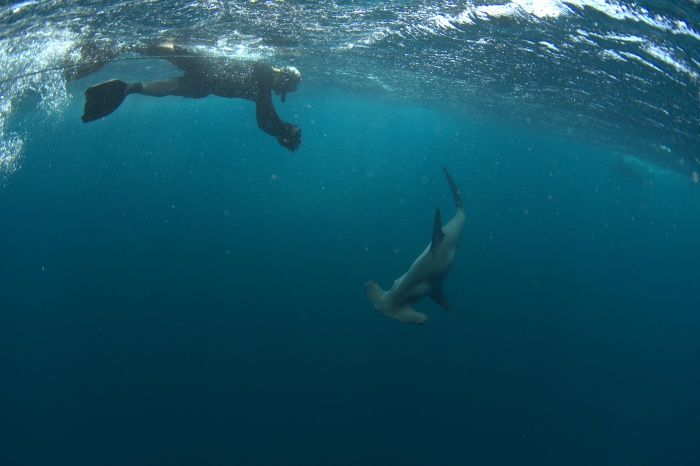Hammer: (350, 147, 521, 349)
